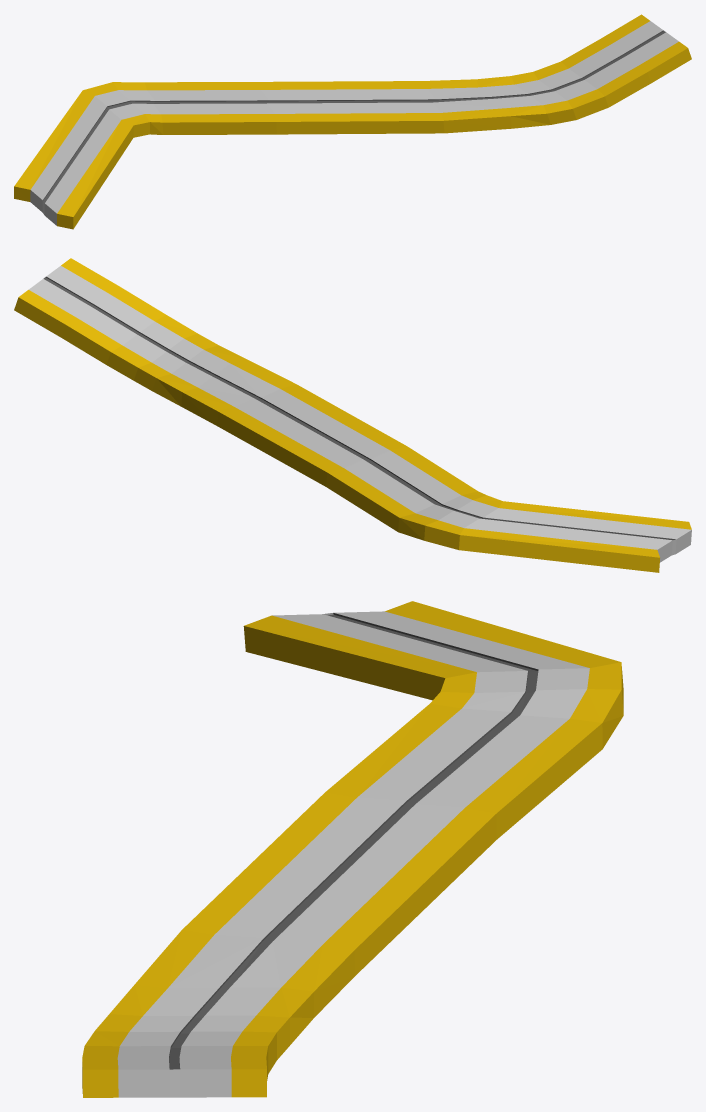
The model's file is RoadWithUV.fbx.
3 views of the same model, one above another, from view 1: azimuth 30°, elevation 25°; view 2: azimuth 150°, elevation 25°; view 3: azimuth 270°, elevation 25° (orthographic). The views are drawn at different scales.
Visible parts, largest first — view 1: pCube32; view 2: pCube32; view 3: pCube32.
Part boxes in pixels (<box>): pCube32: <box>14,14,691,229</box>; pCube32: <box>14,258,691,572</box>; pCube32: <box>82,601,623,1097</box>.
Size of the model in its own units: 72.83 by 8.32 by 28.67.
